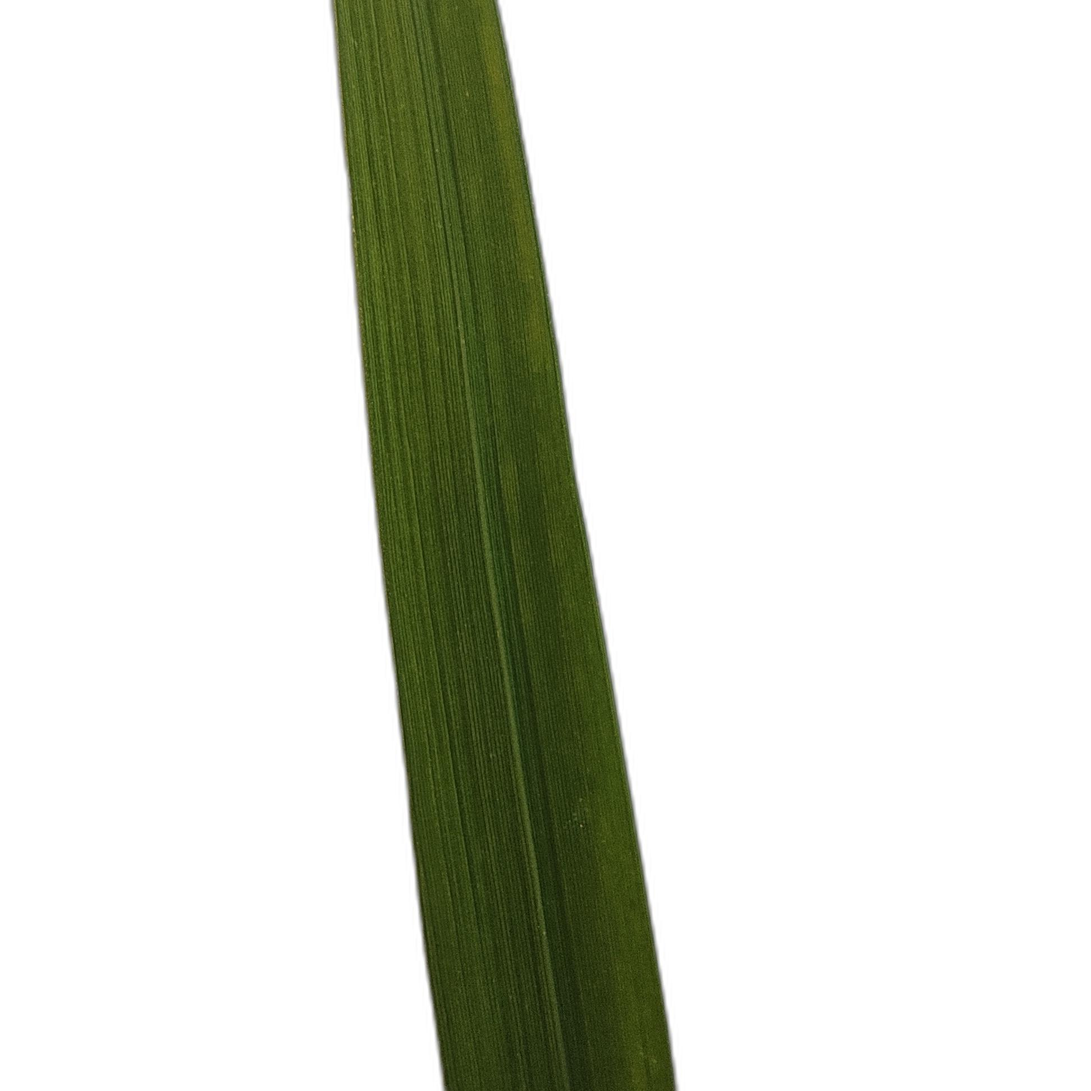Healthy: (332, 1, 677, 1090)
